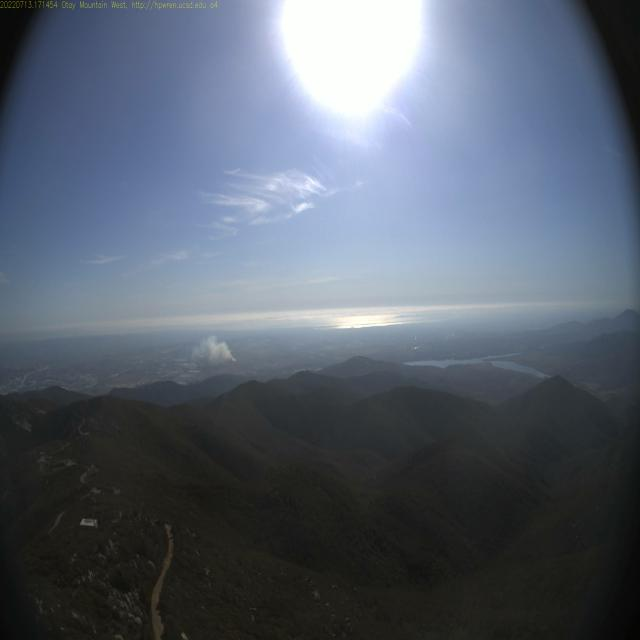smoke: (188, 328, 205, 360), (220, 341, 238, 362), (207, 333, 219, 362)
